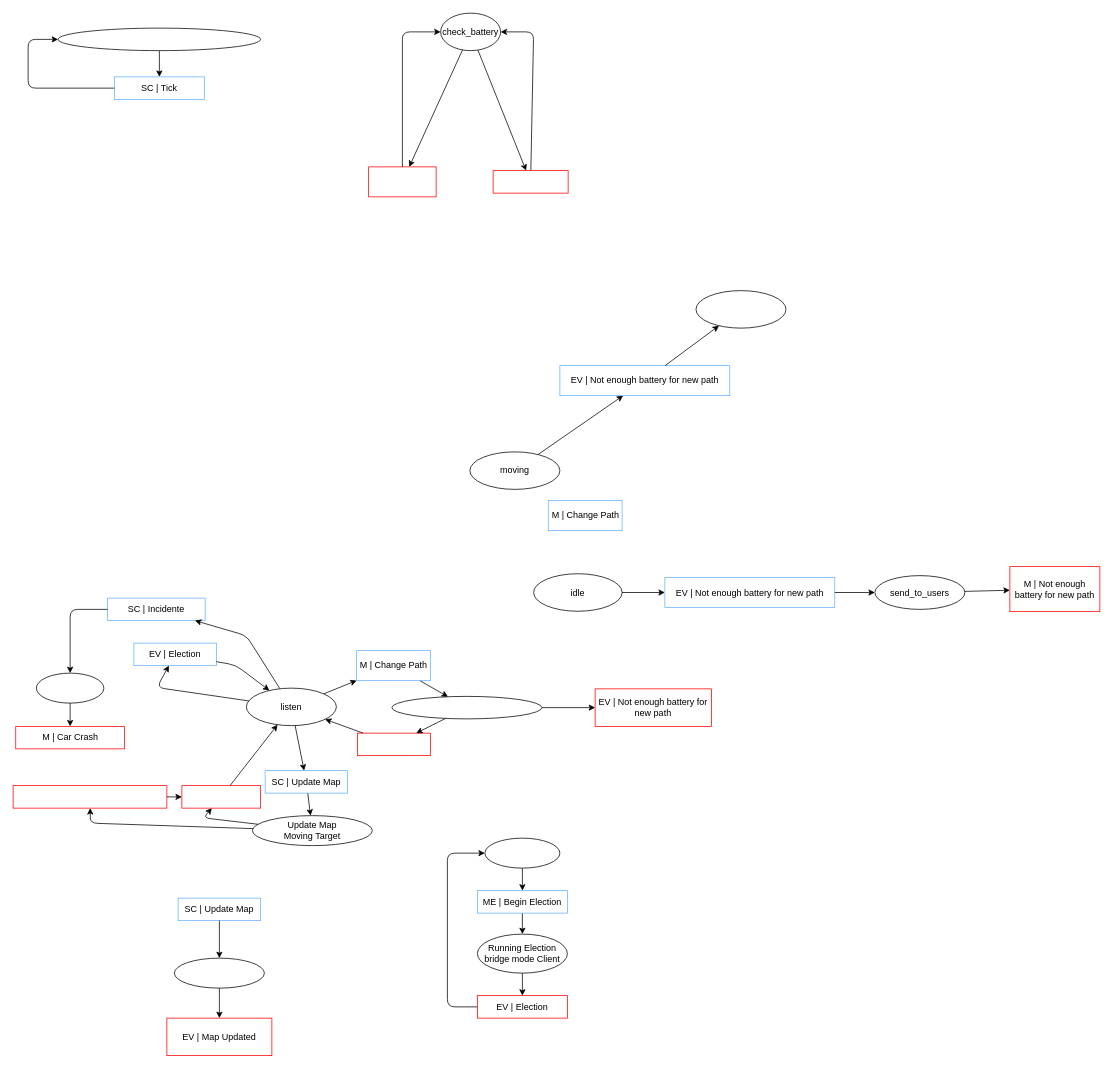
Image size: 1113x1069. Some labels were removed from this diagram. Each missing label, with the centre of its shape:
Crash: [70,687]
EV | Battery Full: [402,181]
EV | Battery Low: [530,181]
EV | Path Found: [393,744]
M | Change Map: [221,796]
M | Not enough battery - can not help: [89,796]
recharging | moving | running_election: [159,39]
Starting Election Initiator Mode: [740,309]
starting_state: [522,852]
Updating Map: [219,972]
user_change_target: [466,707]
